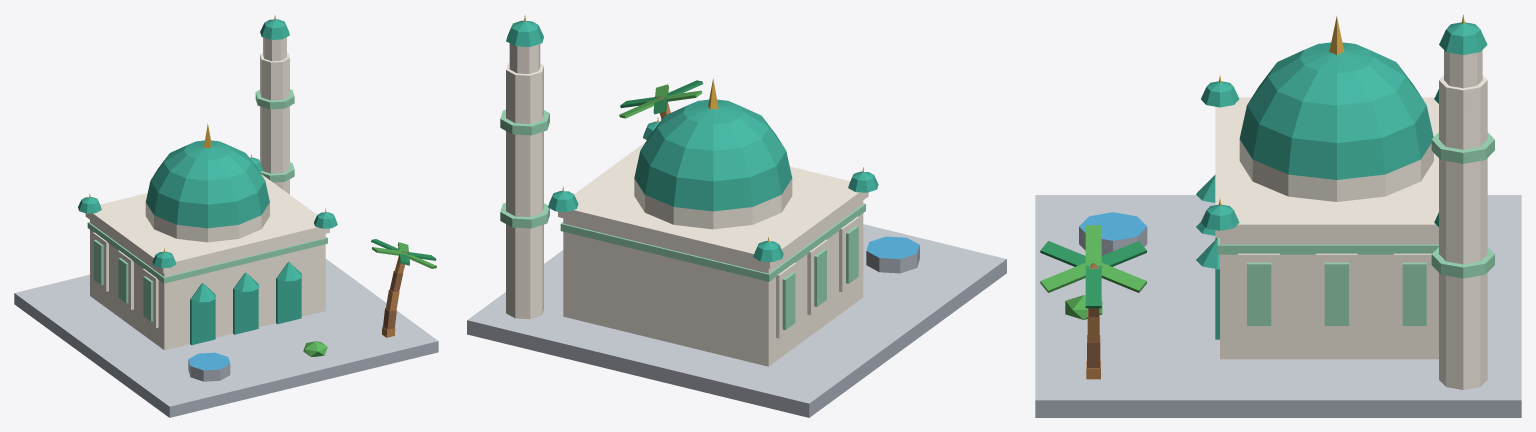
File: public_mosque.glb
The picture shows the model from 3 angles, left to right: view 1: azimuth 30°, elevation 25°; view 2: azimuth 150°, elevation 25°; view 3: azimuth 270°, elevation 25°; orthographic projection. The views are drawn at different scales.
Visible parts, largest first — view 1: public_mosque; view 2: public_mosque; view 3: public_mosque.
Part boxes in pixels (x1,y1,x2,y2): public_mosque: (14,15,438,417); public_mosque: (467,15,1006,417); public_mosque: (1035,15,1521,417).
Size of the model in its own units: 1.05 by 0.8709 by 1.
